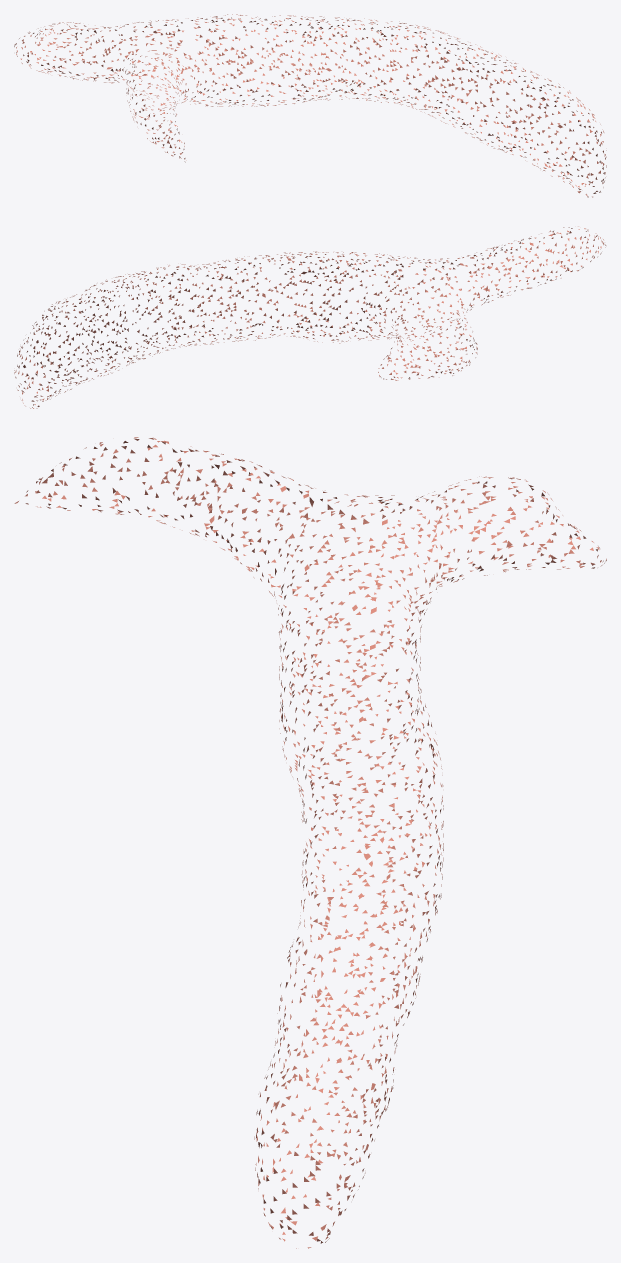
The model's file is morph_002.glb.
The picture shows the model from 3 angles, top to bottom: view 1: azimuth 30°, elevation 25°; view 2: azimuth 150°, elevation 25°; view 3: azimuth 270°, elevation 25°; orthographic projection. The views are drawn at different scales.
Size of the model in its own units: 121 by 58.32 by 73.68.
